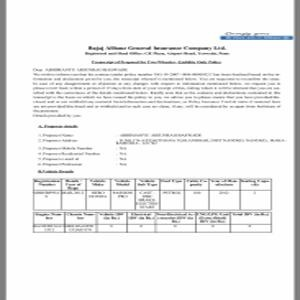table: (32, 177, 272, 211), (33, 210, 273, 234)
text: (28, 66, 283, 118), (38, 125, 287, 171), (84, 43, 233, 67)
